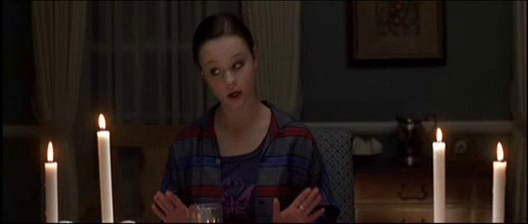face: (202, 48, 253, 109)
mcu: (1, 1, 528, 224)
person: (151, 12, 341, 224)
